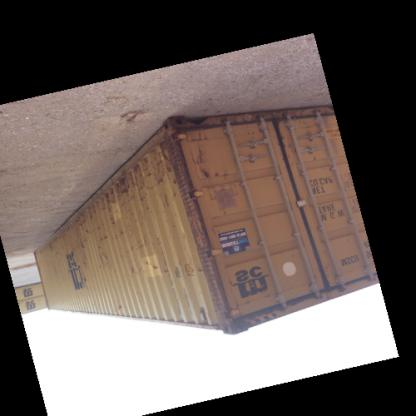Damage: (114, 146, 182, 218), (185, 126, 233, 185), (94, 233, 115, 270), (142, 257, 172, 281), (77, 202, 96, 234), (130, 242, 158, 260), (46, 242, 64, 260), (77, 241, 89, 257), (113, 302, 129, 313), (128, 266, 140, 280), (116, 226, 128, 239), (80, 280, 90, 288)
